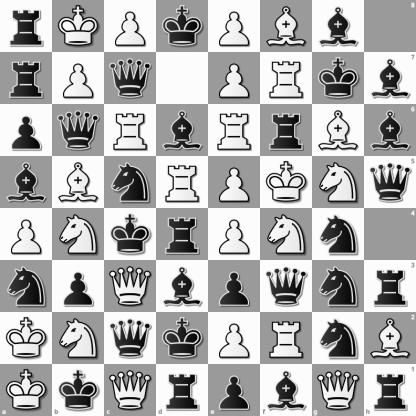B: (364, 312, 416, 364), (53, 157, 104, 208), (261, 1, 312, 52), (313, 105, 364, 156)
K: (0, 364, 52, 416), (1, 313, 52, 364), (53, 1, 104, 52), (261, 157, 312, 208)
N: (53, 209, 104, 260), (53, 313, 104, 364), (261, 209, 312, 260), (313, 157, 364, 208)
P: (1, 209, 52, 260), (53, 53, 104, 104), (105, 1, 156, 52), (209, 1, 260, 52), (209, 53, 260, 104), (209, 157, 260, 208), (209, 209, 260, 260), (209, 313, 260, 364)
Q: (104, 364, 156, 416), (312, 364, 364, 416), (105, 261, 156, 312)
R: (105, 105, 156, 156), (157, 157, 208, 208), (209, 105, 260, 156), (261, 53, 312, 104), (261, 313, 312, 364)
b: (260, 364, 312, 416), (364, 52, 416, 104), (364, 104, 416, 156), (1, 157, 52, 208), (157, 105, 208, 156), (157, 261, 208, 312), (313, 1, 364, 52)
board: (0, 0, 415, 415)
k: (52, 364, 104, 416), (105, 209, 156, 260), (157, 1, 208, 52), (157, 313, 208, 364), (313, 53, 364, 104)
n: (1, 261, 52, 312), (105, 157, 156, 208), (313, 209, 364, 260), (313, 261, 364, 312), (313, 313, 364, 364)
p: (209, 364, 260, 416), (1, 105, 52, 156), (53, 261, 104, 312), (209, 261, 260, 312)
q: (364, 156, 416, 209), (53, 105, 104, 156), (105, 53, 156, 104), (105, 313, 156, 364), (261, 261, 312, 312)
r: (156, 364, 209, 416), (364, 260, 416, 312), (364, 364, 416, 416), (1, 1, 52, 52), (1, 53, 52, 104), (157, 209, 208, 260), (261, 105, 312, 156)
